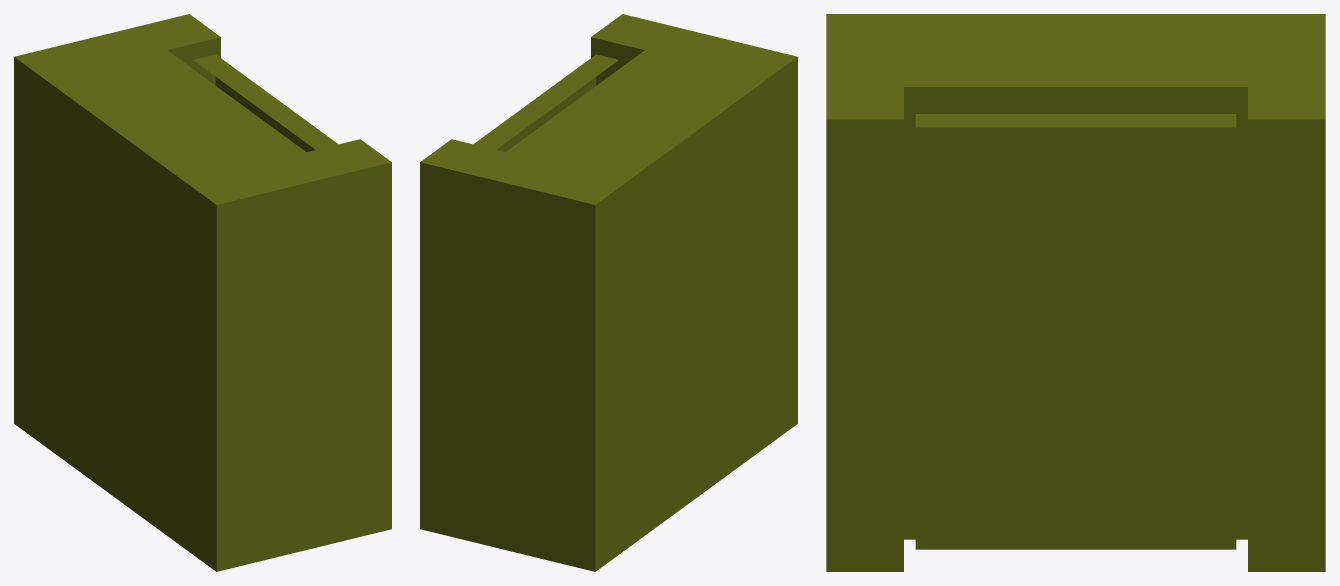
Rendered from SkyTower2.fbx.
3 views of the same model, side by side, from view 1: azimuth 30°, elevation 25°; view 2: azimuth 150°, elevation 25°; view 3: azimuth 270°, elevation 25° (orthographic). The views are drawn at different scales.
Parts seen in each view (by area): view 1: SkyTower2; view 2: SkyTower2; view 3: SkyTower2.
Part boxes in pixels (x1=…): SkyTower2: x1=14, y1=14, x2=391, y2=571; SkyTower2: x1=420, y1=14, x2=797, y2=571; SkyTower2: x1=826, y1=14, x2=1325, y2=571.
Size of the model in its own units: 200 by 400 by 400.
